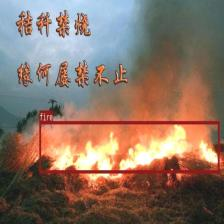fire: (39, 121, 219, 173)
